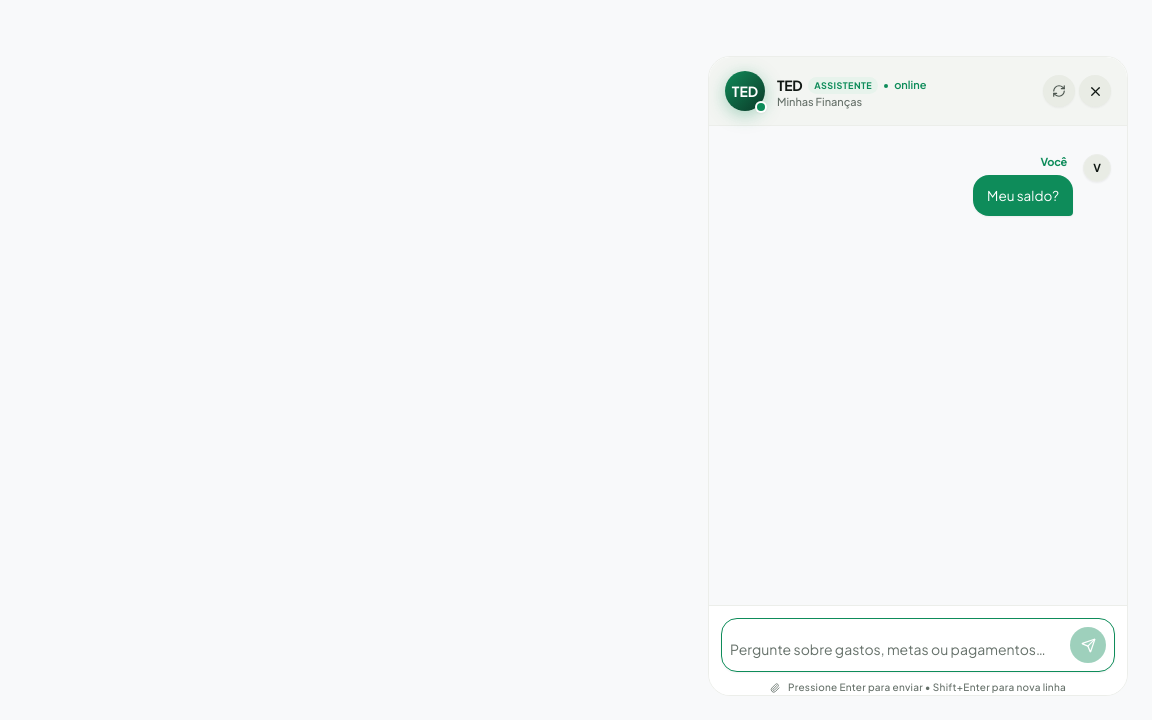
TedChat — reload rehydration from authoritative active list (FIX-P1/T6.1/§25.4) › reload failure with prior history preserves it (regression) and invents no card
Check: the text "Meu saldo?" is shown, box top-left (987, 184), bottom-right (1059, 206)
Step 1. Type "Olá" into the text box with placeholder "Pergunte sobre gastos, metas ou pagamentos…" → (897, 649), box top-left (730, 635), bottom-right (1064, 663)
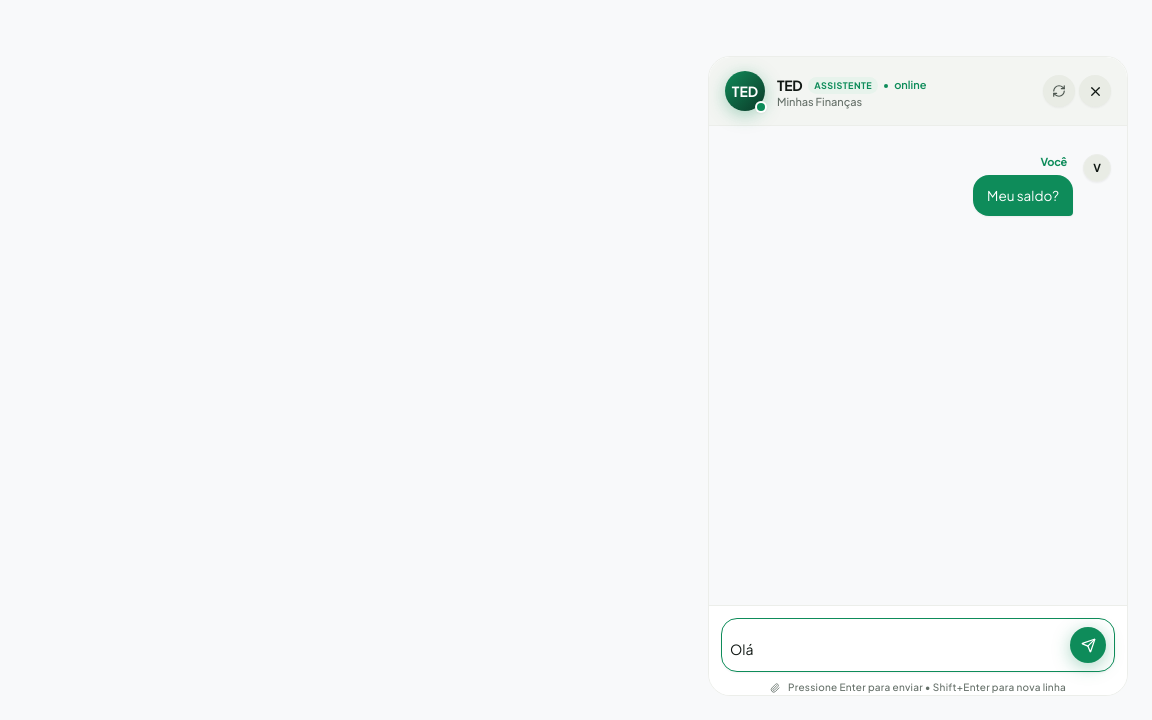
Step 2. Click the button named "enviar mensagem" → (1088, 645), box top-left (1070, 627), bottom-right (1106, 663)
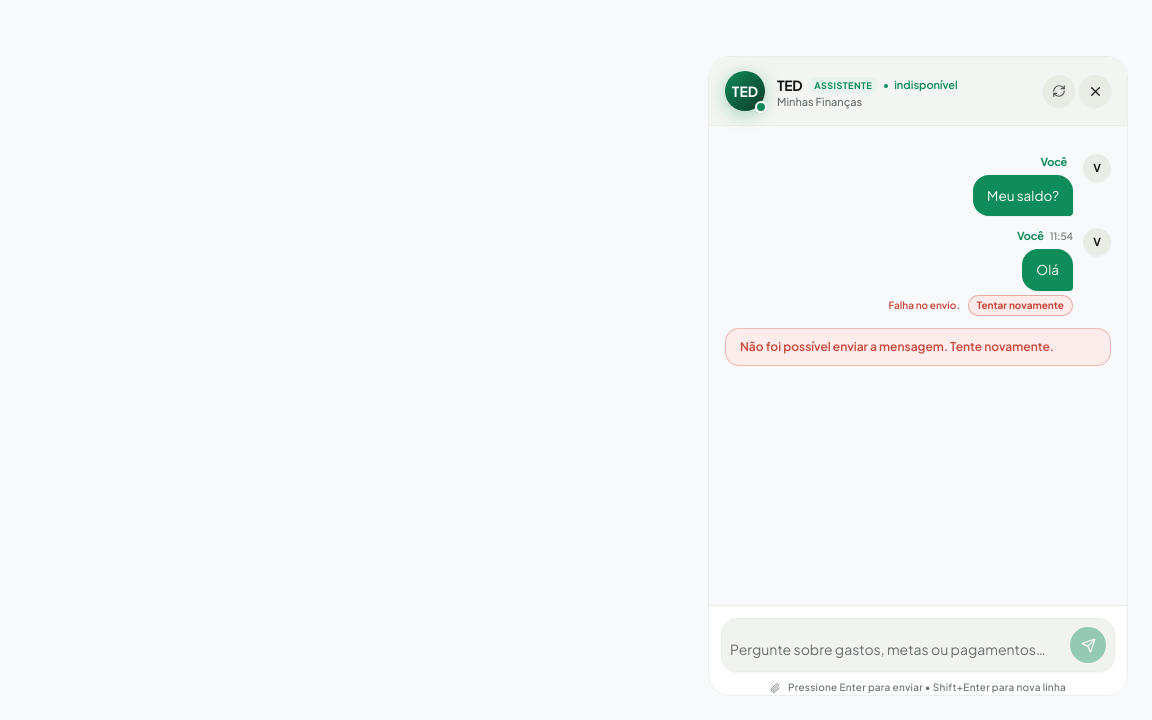
Check: the text "Meu saldo?" is shown, box top-left (987, 184), bottom-right (1059, 206)
Check: the message "Não foi possível enviar a mensagem. Tente novamente." is shown, box top-left (725, 328), bottom-right (1111, 366)
